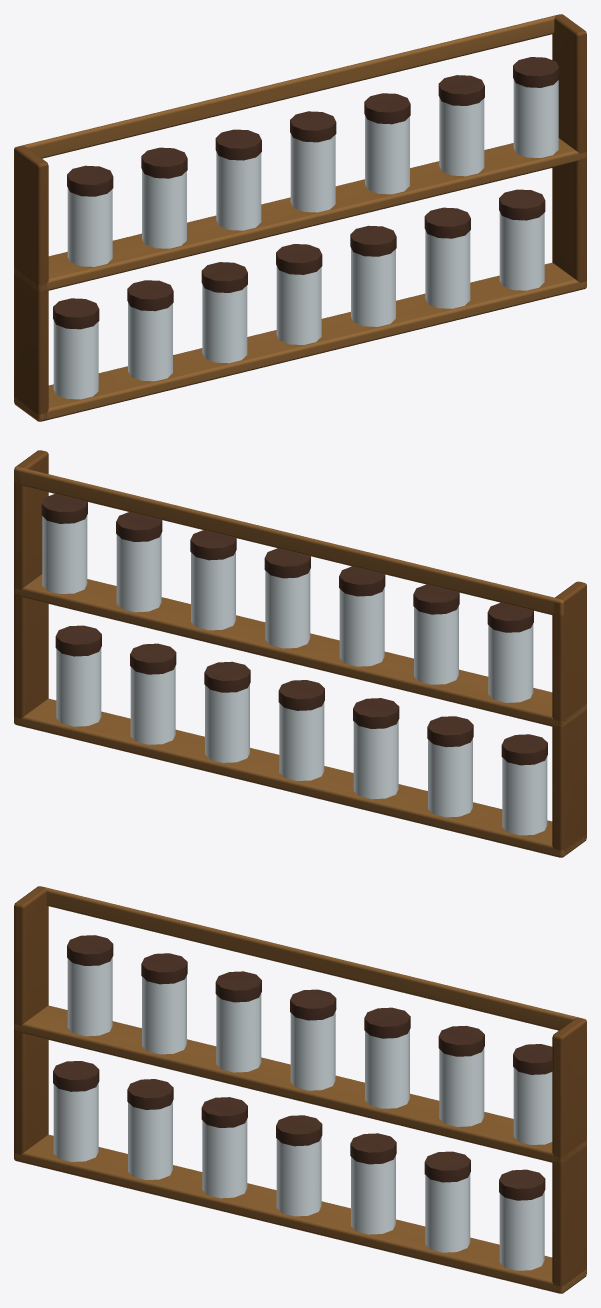
Rendered from furn_spice_rack.glb.
3 views of the same model, one above another, from view 1: azimuth 30°, elevation 25°; view 2: azimuth 150°, elevation 25°; view 3: azimuth 330°, elevation 25° (orthographic).
Visible parts, largest first — view 1: furn_spice_rack_main, furn_spice_rack_clear; view 2: furn_spice_rack_main, furn_spice_rack_clear; view 3: furn_spice_rack_main, furn_spice_rack_clear.
Boxes of the visible parts, x1,y1,x2,y2 form: furn_spice_rack_main: [14, 14, 586, 421]; furn_spice_rack_clear: [53, 79, 558, 399]; furn_spice_rack_main: [14, 450, 586, 857]; furn_spice_rack_clear: [42, 515, 547, 835]; furn_spice_rack_main: [14, 886, 586, 1293]; furn_spice_rack_clear: [53, 957, 552, 1270].
Bounding box in the file's own units: 1.96 × 0.88 × 0.16.
